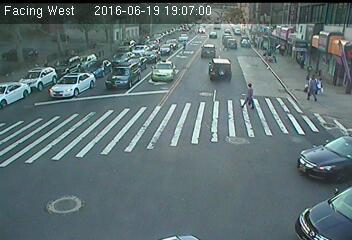neg: (117, 88, 149, 131), (289, 194, 313, 227), (248, 144, 271, 175), (293, 129, 314, 157), (21, 44, 38, 67), (56, 78, 72, 99), (51, 188, 67, 209), (324, 36, 339, 56)
pos: (239, 80, 261, 111), (305, 74, 326, 102), (297, 50, 309, 66)
